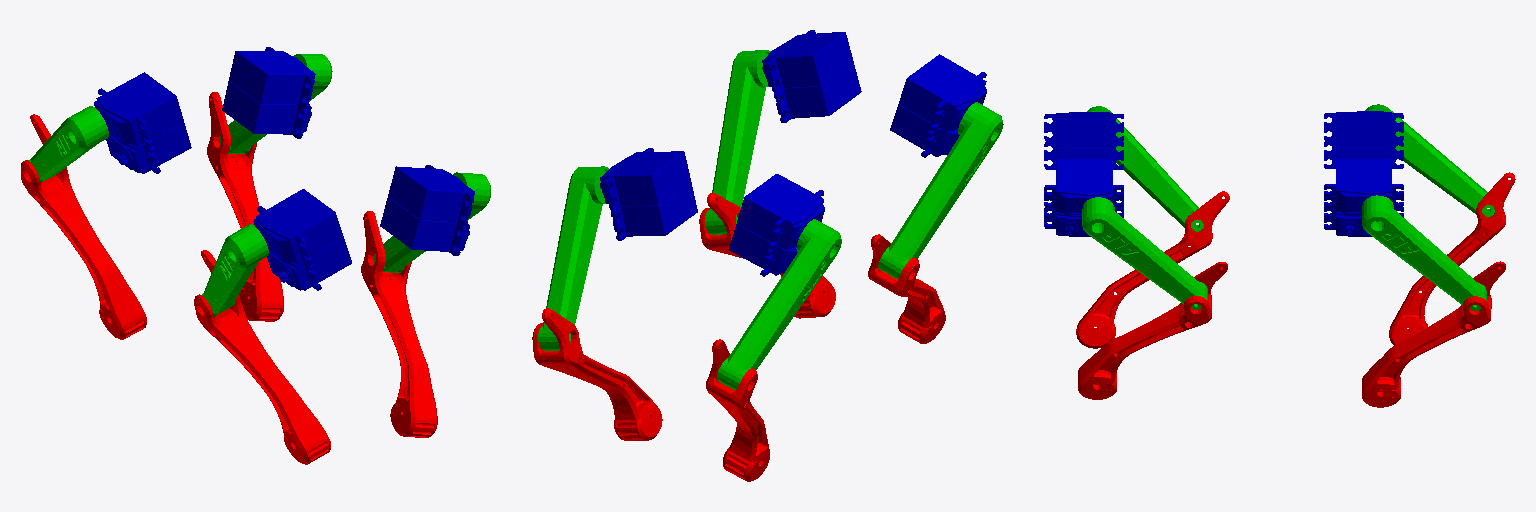
--- Facts derived from the render (not from the file) ---
3 views of the same robot in one strip: view 1: azimuth 30°, elevation 25°; view 2: azimuth 150°, elevation 25°; view 3: azimuth 270°, elevation 25° (orthographic).
Model dd with 17 links and 16 joints (12 revolute, 4 fixed), rooted at base_link, posed all joints at 0.
Links seen in each view (by area): view 1: FL_lower, RL_hip, FR_hip, RR_lower, RR_hip, FL_hip, FR_lower, RL_lower, FR_upper, RR_upper, FL_upper, RL_upper; view 2: RL_hip, FL_hip, FR_upper, RR_upper, FR_hip, RR_hip, RL_upper, FL_upper, RL_lower, RR_lower, FR_lower, FL_lower; view 3: RL_lower, FL_lower, RL_upper, FL_upper, FL_hip, RL_hip, FR_lower, RR_hip, FR_hip, RR_lower, RR_upper, FR_upper.
Link boxes in pixels (left/top/right/bottom): FL_lower: left=361, top=211, right=437, bottom=437; RL_hip: left=222, top=47, right=315, bottom=138; FR_hip: left=253, top=189, right=351, bottom=290; RR_lower: left=21, top=114, right=146, bottom=339; RR_hip: left=94, top=72, right=191, bottom=173; FL_hip: left=380, top=165, right=474, bottom=255; FR_lower: left=194, top=250, right=330, bottom=464; RL_lower: left=207, top=92, right=283, bottom=321; FR_upper: left=202, top=224, right=268, bottom=316; RR_upper: left=28, top=106, right=108, bottom=182; FL_upper: left=374, top=172, right=490, bottom=272; RL_upper: left=219, top=54, right=332, bottom=153; RL_hip: left=600, top=148, right=697, bottom=240; FL_hip: left=762, top=30, right=861, bottom=122; FR_upper: left=878, top=102, right=1003, bottom=279; RR_upper: left=716, top=219, right=841, bottom=390; FR_hip: left=890, top=54, right=986, bottom=157; RR_hip: left=729, top=174, right=824, bottom=276; RL_upper: left=538, top=166, right=608, bottom=350; FL_upper: left=705, top=50, right=770, bottom=234; RL_lower: left=532, top=308, right=662, bottom=440; RR_lower: left=706, top=339, right=769, bottom=481; FR_lower: left=868, top=234, right=945, bottom=343; FL_lower: left=699, top=193, right=835, bottom=318; RL_lower: left=1362, top=261, right=1505, bottom=407; FL_lower: left=1078, top=262, right=1227, bottom=399; RL_upper: left=1362, top=195, right=1486, bottom=310; FL_upper: left=1082, top=197, right=1207, bottom=309; FL_hip: left=1044, top=159, right=1123, bottom=236; RL_hip: left=1324, top=159, right=1403, bottom=236; FR_lower: left=1076, top=191, right=1229, bottom=348; RR_hip: left=1324, top=111, right=1403, bottom=168; FR_hip: left=1044, top=112, right=1123, bottom=169; RR_lower: left=1389, top=172, right=1515, bottom=345; RR_upper: left=1365, top=104, right=1494, bottom=216; FR_upper: left=1087, top=106, right=1203, bottom=231.
Size in the robot's own frame: 0.1852 by 0.3326 by 0.1856 metres.
Meshes: 13 distinct files referenced, 12 mesh visuals loaded (12 binary STL); not drawn: 1 (reference not matched to a file when rendering).

URDF robot description (dd):
<?xml version="1.0" encoding="utf-8"?>
<!-- This URDF was automatically created by SolidWorks to URDF Exporter! Originally created by Stephen Brawner ([email redacted]) 
     Commit Version: 1.6.0-1-g15f4949  Build Version: 1.6.7594.29634
     For more information, please see http://wiki.ros.org/sw_urdf_exporter -->
<robot
  name="dd">
  <link
    name="base_link">
    <inertial>
      <origin
        xyz="-0.00026982 0.0011604 -0.0054825"
        rpy="0 0 0" />
      <mass
        value="0.43373" />
      <inertia
        ixx="0.00050607"
        ixy="2.8379E-08"
        ixz="-7.5911E-08"
        iyy="0.00013888"
        iyz="-1.9807E-07"
        izz="0.00052158" />
    </inertial>
    <visual>
      <origin
        xyz="0 0 0"
        rpy="0 0 0" />
      <geometry>
        <mesh
          filename="package://dd/meshes/base_link.STL" />
      </geometry>
      <material
        name="">
        <color
          rgba="1 0.423529411765 0.0392156862745 1" />
      </material>
    </visual>
    <collision>
      <origin
        xyz="0 0 0"
        rpy="0 0 0" />
      <geometry>
        <mesh
          filename="package://dd/meshes/base_link.STL" />
      </geometry>
    </collision>
  </link>
  <link
    name="FR_hip">
    <inertial>
      <origin
        xyz="-0.01 -0.016533 0.01"
        rpy="0 0 0" />
      <mass
        value="0.038771" />
      <inertia
        ixx="5.5867E-06"
        ixy="7.7162E-15"
        ixz="3.4527E-13"
        iyy="5.9876E-06"
        iyz="-4.4962E-15"
        izz="2.1978E-06" />
    </inertial>
    <visual>
      <origin
        xyz="0 0 0"
        rpy="0 0 0" />
      <geometry>
        <mesh
          filename="package://dd/meshes/FR_hip.STL" />
      </geometry>
      <material
        name="">
        <color
          rgba="0 0 0.8 1" />
      </material>
    </visual>
    <collision>
      <origin
        xyz="0 0 0"
        rpy="0 0 0" />
      <geometry>
        <mesh
          filename="package://dd/meshes/FR_hip.STL" />
      </geometry>
    </collision>
  </link>
  <joint
    name="FR_hip_joint"
    type="revolute">
    <origin
      xyz="-0.068663 -0.08865 -0.0075892"
      rpy="-1.5708 -1.2604 3.1416" />
    <parent
      link="base_link" />
    <child
      link="FR_hip" />
    <axis
      xyz="0 0 1" />
    <limit
      lower="-0.80285"
      upper="0.80285"
      effort="20"
      velocity="52.4" />
    <dynamics
      damping="0"
      friction="0" />
  </joint>
  <link
    name="FR_upper">
    <inertial>
      <origin
        xyz="0.0076438 -0.04431 1.8027E-06"
        rpy="0 0 0" />
      <mass
        value="0.034183" />
      <inertia
        ixx="3.8769E-05"
        ixy="5.2555E-07"
        ixz="-4.8285E-10"
        iyy="1.7678E-06"
        iyz="-5.4044E-10"
        izz="3.8447E-05" />
    </inertial>
    <visual>
      <origin
        xyz="0 0 0"
        rpy="0 0 0" />
      <geometry>
        <mesh
          filename="package://dd/meshes/FR_upper.STL" />
      </geometry>
      <material
        name="">
        <color
          rgba="0 0.8 0 1" />
      </material>
    </visual>
    <collision>
      <origin
        xyz="0 0 0"
        rpy="0 0 0" />
      <geometry>
        <mesh
          filename="package://dd/meshes/FR_upper.STL" />
      </geometry>
    </collision>
  </link>
  <joint
    name="FR_upper_joint"
    type="revolute">
    <origin
      xyz="0 0.00615 0"
      rpy="2.3688 0 1.5708" />
    <parent
      link="FR_hip" />
    <child
      link="FR_upper" />
    <axis
      xyz="1 0 0" />
    <limit
      lower="-0.82"
      upper="0"
      effort="55"
      velocity="28.6" />
    <dynamics
      damping="0"
      friction="0" />
  </joint>
  <link
    name="FR_lower">
    <inertial>
      <origin
        xyz="-0.00047359 -0.042592 -0.042689"
        rpy="0 0 0" />
      <mass
        value="0.02613" />
      <inertia
        ixx="3.4619E-05"
        ixy="2.5066E-07"
        ixz="2.5642E-07"
        iyy="2.1712E-05"
        iyz="-1.6E-05"
        izz="1.3723E-05" />
    </inertial>
    <visual>
      <origin
        xyz="0 0 0"
        rpy="0 0 0" />
      <geometry>
        <mesh
          filename="package://dd/meshes/FR_lower.STL" />
      </geometry>
      <material
        name="">
        <color
          rgba="1 0 0 1" />
      </material>
    </visual>
    <collision>
      <origin
        xyz="0 0 0"
        rpy="0 0 0" />
      <geometry>
        <mesh
          filename="package://dd/meshes/FR_lower.STL" />
      </geometry>
    </collision>
  </link>  
  <joint
    name="FR_lower_joint"
    type="revolute">
    <origin
      xyz="0.008 -0.1 0"
      rpy="0.73678 0 0" />
    <parent
      link="FR_upper" />
    <child
      link="FR_lower" />
    <axis
      xyz="1 0 0" />
    <limit
      lower="0"
      upper="1.56"
      effort="55"
      velocity="28.6" />
    <dynamics
      damping="0"
      friction="0" />
  </joint>

  <link
    name="FR_toe">
    <inertial>
      <origin
        xyz="-0.00047359 -0.0739421 -0.0739421"
        rpy="0 0 0" />
      <mass
        value="0.0002" />
      <inertia
        ixx="3.4619E-05"
        ixy="2.5066E-07"
        ixz="2.5642E-07"
        iyy="2.1712E-05"
        iyz="-1.6E-05"
        izz="1.3723E-05" />
    </inertial>
    <visual>
      <origin
        xyz="0 0 0"
        rpy="0 0 0" />
      <geometry>
        <box size="0.001 0.001 0.001"/> 
      </geometry>
      <material
        name="">
        <color
          rgba="0 0 0 1" />
      </material>
    </visual>
    <collision>
      <origin
        xyz="0 0 0"
        rpy="0 0 0" />
      <geometry>
        <box size="0.001 0.001 0.001"/>
      </geometry>
    </collision>
  </link>  
  <joint
    name="FR_toe_joint"
    type="fixed">
    <origin
      xyz="-0.00047359 -0.0739421 -0.0739421"
      rpy="0.73678 0 0" />
    <parent
      link="FR_lower" />
    <child
      link="FR_toe" />
  </joint>
  <transmission name="FR_hip_tran">
    <type>transmission_interface/SimpleTransmission</type>
    <joint name="FR_hip_joint">
      <hardwareInterface>hardware_interface/EffortJointInterface</hardwareInterface>
    </joint>
    <actuator name="FR_hip_motor">
      <hardwareInterface>hardware_interface/EffortJointInterface</hardwareInterface>
      <mechanicalReduction>1</mechanicalReduction>
    </actuator>
  </transmission>
  <transmission name="FR_upper_tran">
    <type>transmission_interface/SimpleTransmission</type>
    <joint name="FR_upper_joint">
      <hardwareInterface>hardware_interface/EffortJointInterface</hardwareInterface>
    </joint>
    <actuator name="FR_upper_motor">
      <hardwareInterface>hardware_interface/EffortJointInterface</hardwareInterface>
      <mechanicalReduction>1</mechanicalReduction>
    </actuator>
  </transmission>
  <transmission name="FR_lower_tran">
    <type>transmission_interface/SimpleTransmission</type>
    <joint name="FR_lower_joint">
      <hardwareInterface>hardware_interface/EffortJointInterface</hardwareInterface>
    </joint>
    <actuator name="FR_lower_motor">
      <hardwareInterface>hardware_interface/EffortJointInterface</hardwareInterface>
      <mechanicalReduction>1</mechanicalReduction>
    </actuator>
  </transmission>


  <link
    name="FL_hip">
    <inertial>
      <origin
        xyz="0.01 -0.016533 0.01"
        rpy="0 0 0" />
      <mass
        value="0.038771" />
      <inertia
        ixx="5.5867E-06"
        ixy="-7.5247E-15"
        ixz="3.4446E-13"
        iyy="5.9876E-06"
        iyz="4.3935E-15"
        izz="2.1978E-06" />
    </inertial>
    <visual>
      <origin
        xyz="0 0 0"
        rpy="0 0 0" />
      <geometry>
        <mesh
          filename="package://dd/meshes/FL_hip.STL" />
      </geometry>
      <material
        name="">
        <color
          rgba="0 0 0.8 1" />
      </material>
    </visual>
    <collision>
      <origin
        xyz="0 0 0"
        rpy="0 0 0" />
      <geometry>
        <mesh
          filename="package://dd/meshes/FL_hip.STL" />
      </geometry>
    </collision>
  </link>
  <joint
    name="FL_hip_joint"
    type="revolute">
    <origin
      xyz="0.06883 -0.08865 -0.0070456"
      rpy="-1.5708 1.2833 -3.1416" />
    <parent
      link="base_link" />
    <child
      link="FL_hip" />
    <axis
      xyz="0 0 1" />
    <limit
      lower="-0.80285"
      upper="0.80285"
      effort="20"
      velocity="52.4" />
    <dynamics
      damping="0"
      friction="0" />
  </joint>
  <link
    name="FL_upper">
    <inertial>
      <origin
        xyz="0.0076438 -0.04431 1.8026E-06"
        rpy="0 0 0" />
      <mass
        value="0.034183" />
      <inertia
        ixx="3.8769E-05"
        ixy="5.2554E-07"
        ixz="-4.8282E-10"
        iyy="1.7678E-06"
        iyz="-5.4063E-10"
        izz="3.8447E-05" />
    </inertial>
    <visual>
      <origin
        xyz="0 0 0"
        rpy="0 0 0" />
      <geometry>
        <mesh
          filename="package://dd/meshes/FL_upper.STL" />
      </geometry>
      <material
        name="">
        <color
          rgba="0 0.8 0 1" />
      </material>
    </visual>
    <collision>
      <origin
        xyz="0 0 0"
        rpy="0 0 0" />
      <geometry>
        <mesh
          filename="package://dd/meshes/FL_upper.STL" />
      </geometry>
    </collision>
  </link>
  <joint
    name="FL_upper_joint"
    type="revolute">
    <origin
      xyz="0 0.00615 0"
      rpy="0.76303 0 1.5708" />
    <parent
      link="FL_hip" />
    <child
      link="FL_upper" />
    <axis
      xyz="1 0 0" />
    <limit
      lower="0"
      upper="0.85"
      effort="55"
      velocity="28.6" />
    <dynamics
      damping="0"
      friction="0" />
  </joint>
  <link
    name="FL_lower">
    <inertial>
      <origin
        xyz="-0.00047369 -0.042592 0.042689"
        rpy="0 0 0" />
      <mass
        value="0.02613" />
      <inertia
        ixx="3.4619E-05"
        ixy="2.507E-07"
        ixz="-2.5641E-07"
        iyy="2.1712E-05"
        iyz="1.6E-05"
        izz="1.3723E-05" />
    </inertial>
    <visual>
      <origin
        xyz="0 0 0"
        rpy="0 0 0" />
      <geometry>
        <mesh
          filename="package://dd/meshes/FL_lower.STL" />
      </geometry>
      <material
        name="">
        <color
          rgba="1 0 0 1" />
      </material>
    </visual>
    <collision>
      <origin
        xyz="0 0 0"
        rpy="0 0 0" />
      <geometry>
        <mesh
          filename="package://dd/meshes/FL_lower.STL" />
      </geometry>
    </collision>
  </link>
  <joint
    name="FL_lower_joint"
    type="revolute">
    <origin
      xyz="0.00825 -0.1 0"
      rpy="-0.70402 0 0" />
    <parent
      link="FL_upper" />
    <child
      link="FL_lower" />
    <axis
      xyz="1 0 0" />
    <limit
      lower="0"
      upper="-1.42"
      effort="55"
      velocity="28.6" />
    <dynamics
      damping="0"
      friction="0" />
  </joint>

  <link
    name="FL_toe">
    <inertial>
      <origin
        xyz="-0.00047359 -0.0739421 0.0739421"
        rpy="0 0 0" />
      <mass
        value="0.0002" />
      <inertia
        ixx="3.4619E-05"
        ixy="2.5066E-07"
        ixz="2.5642E-07"
        iyy="2.1712E-05"
        iyz="-1.6E-05"
        izz="1.3723E-05" />
    </inertial>
    <visual>
      <origin
        xyz="0 0 0"
        rpy="0 0 0" />
      <geometry>
        <box size="0.001 0.001 0.001"/> 
      </geometry>
      <material
        name="">
        <color
          rgba="0 0 0 1" />
      </material>
    </visual>
    <collision>
      <origin
        xyz="0 0 0"
        rpy="0 0 0" />
      <geometry>
        <box size="0.001 0.001 0.001"/>
      </geometry>
    </collision>
  </link>  
  <joint
    name="FL_toe_joint"
    type="fixed">
    <origin
      xyz="-0.00047359 -0.0739421 0.0739421"
      rpy="0.73678 0 0" />
    <parent
      link="FL_lower" />
    <child
      link="FL_toe" />
  </joint>
  <transmission name="FL_hip_tran">
    <type>transmission_interface/SimpleTransmission</type>
    <joint name="FL_hip_joint">
      <hardwareInterface>hardware_interface/EffortJointInterface</hardwareInterface>
    </joint>
    <actuator name="FL_hip_motor">
      <hardwareInterface>hardware_interface/EffortJointInterface</hardwareInterface>
      <mechanicalReduction>1</mechanicalReduction>
    </actuator>
  </transmission>
  <transmission name="FL_upper_tran">
    <type>transmission_interface/SimpleTransmission</type>
    <joint name="FL_upper_joint">
      <hardwareInterface>hardware_interface/EffortJointInterface</hardwareInterface>
    </joint>
    <actuator name="FL_upper_motor">
      <hardwareInterface>hardware_interface/EffortJointInterface</hardwareInterface>
      <mechanicalReduction>1</mechanicalReduction>
    </actuator>
  </transmission>
  <transmission name="FL_lower_tran">
    <type>transmission_interface/SimpleTransmission</type>
    <joint name="FL_lower_joint">
      <hardwareInterface>hardware_interface/EffortJointInterface</hardwareInterface>
    </joint>
    <actuator name="FL_lower_motor">
      <hardwareInterface>hardware_interface/EffortJointInterface</hardwareInterface>
      <mechanicalReduction>1</mechanicalReduction>
    </actuator>
  </transmission>

  <link
    name="RR_hip">
    <inertial>
      <origin
        xyz="-0.01 -0.016533 0.01"
        rpy="0 0 0" />
      <mass
        value="0.038771" />
      <inertia
        ixx="5.5867E-06"
        ixy="7.4367E-15"
        ixz="3.4416E-13"
        iyy="5.9876E-06"
        iyz="-4.3455E-15"
        izz="2.1978E-06" />
    </inertial>
    <visual>
      <origin
        xyz="0 0 0"
        rpy="0 0 0" />
      <geometry>
        <mesh
          filename="package://dd/meshes/RR_hip.STL" />
      </geometry>
      <material
        name="">
        <color
          rgba="0 0 0.8 1" />
      </material>
    </visual>
    <collision>
      <origin
        xyz="0 0 0"
        rpy="0 0 0" />
      <geometry>
        <mesh
          filename="package://dd/meshes/RR_hip.STL" />
      </geometry>
    </collision>
  </link>
  <joint
    name="RR_hip_joint"
    type="revolute">
    <origin
      xyz="-0.06889 0.10865 -0.0068413"
      rpy="-1.5708 -1.2919 3.1416" />
    <parent
      link="base_link" />
    <child
      link="RR_hip" />
    <axis
      xyz="0 0 1" />
    <limit
      lower="-0.80285"
      upper="0.80285"
      effort="20"
      velocity="52.4" />
    <dynamics
      damping="0"
      friction="0" />
  </joint>
  <link
    name="RR_upper">
    <inertial>
      <origin
        xyz="0.0076438 -0.04431 1.8026E-06"
        rpy="0 0 0" />
      <mass
        value="0.034183" />
      <inertia
        ixx="3.8769E-05"
        ixy="5.2555E-07"
        ixz="-4.8281E-10"
        iyy="1.7678E-06"
        iyz="-5.4052E-10"
        izz="3.8447E-05" />
    </inertial>
    <visual>
      <origin
        xyz="0 0 0"
        rpy="0 0 0" />
      <geometry>
        <mesh
          filename="package://dd/meshes/RR_upper.STL" />
      </geometry>
      <material
        name="">
        <color
          rgba="0 0.8 0 1" />
      </material>
    </visual>
    <collision>
      <origin
        xyz="0 0 0"
        rpy="0 0 0" />
      <geometry>
        <mesh
          filename="package://dd/meshes/RR_upper.STL" />
      </geometry>
    </collision>
  </link>
  <joint
    name="RR_upper_joint"
    type="revolute">
    <origin
      xyz="0 0.00615 0"
      rpy="2.2445 0 1.5708" />
    <parent
      link="RR_hip" />
    <child
      link="RR_upper" />
    <axis
      xyz="1 0 0" />
    <limit
      lower="-0.82"
      upper="0"
      effort="55"
      velocity="28.6" />
    <dynamics
      damping="0"
      friction="0" />
  </joint>
  <link
    name="RR_lower">
    <inertial>
      <origin
        xyz="-0.00047359 -0.042592 -0.042689"
        rpy="0 0 0" />
      <mass
        value="0.02613" />
      <inertia
        ixx="3.4619E-05"
        ixy="2.5066E-07"
        ixz="2.5642E-07"
        iyy="2.1712E-05"
        iyz="-1.6E-05"
        izz="1.3723E-05" />
    </inertial>
    <visual>
      <origin
        xyz="0 0 0"
        rpy="0 0 0" />
      <geometry>
        <mesh
          filename="package://dd/meshes/RR_lower.STL" />
      </geometry>
      <material
        name="">
        <color
          rgba="1 0 0 1" />
      </material>
    </visual>
    <collision>
      <origin
        xyz="0 0 0"
        rpy="0 0 0" />
      <geometry>
        <mesh
          filename="package://dd/meshes/RR_lower.STL" />
      </geometry>
    </collision>
  </link>
  <joint
    name="RR_lower_joint"
    type="revolute">
    <origin
      xyz="0.008 -0.1 0"
      rpy="0.67743 0 0" />
    <parent
      link="RR_upper" />
    <child
      link="RR_lower" />
    <axis
      xyz="1 0 0" />
    <limit
      lower="0"
      upper="1.56"
      effort="55"
      velocity="28.6" />
    <dynamics
      damping="0"
      friction="0" />
  </joint>

  <link
    name="RR_toe">
    <inertial>
      <origin
        xyz="-0.00047359 -0.0744159 -0.0744159"
        rpy="0 0 0" />
      <mass
        value="0.0002" />
      <inertia
        ixx="3.4619E-05"
        ixy="2.5066E-07"
        ixz="2.5642E-07"
        iyy="2.1712E-05"
        iyz="-1.6E-05"
        izz="1.3723E-05" />
    </inertial>
    <visual>
      <origin
        xyz="0 0 0"
        rpy="0 0 0" />
      <geometry>
        <box size="0.001 0.001 0.001"/> 
      </geometry>
      <material
        name="">
        <color
          rgba="0 0 0 1" />
      </material>
    </visual>
    <collision>
      <origin
        xyz="0 0 0"
        rpy="0 0 0" />
      <geometry>
        <box size="0.001 0.001 0.001"/>
      </geometry>
    </collision>
  </link>  
  <joint
    name="RR_toe_joint"
    type="fixed">
    <origin
      xyz="-0.00047359 -0.0739421 -0.0739421"
      rpy="0.67743 0 0" />
    <parent
      link="RR_lower" />
    <child
      link="RR_toe" />
  </joint>
  <transmission name="RR_hip_tran">
    <type>transmission_interface/SimpleTransmission</type>
    <joint name="RR_hip_joint">
      <hardwareInterface>hardware_interface/EffortJointInterface</hardwareInterface>
    </joint>
    <actuator name="RR_hip_motor">
      <hardwareInterface>hardware_interface/EffortJointInterface</hardwareInterface>
      <mechanicalReduction>1</mechanicalReduction>
    </actuator>
  </transmission>
  <transmission name="RR_upper_tran">
    <type>transmission_interface/SimpleTransmission</type>
    <joint name="RR_upper_joint">
      <hardwareInterface>hardware_interface/EffortJointInterface</hardwareInterface>
    </joint>
    <actuator name="RR_upper_motor">
      <hardwareInterface>hardware_interface/EffortJointInterface</hardwareInterface>
      <mechanicalReduction>1</mechanicalReduction>
    </actuator>
  </transmission>
  <transmission name="RR_lower_tran">
    <type>transmission_interface/SimpleTransmission</type>
    <joint name="RR_lower_joint">
      <hardwareInterface>hardware_interface/EffortJointInterface</hardwareInterface>
    </joint>
    <actuator name="RR_lower_motor">
      <hardwareInterface>hardware_interface/EffortJointInterface</hardwareInterface>
      <mechanicalReduction>1</mechanicalReduction>
    </actuator>
  </transmission>

  <link
    name="RL_hip">
    <inertial>
      <origin
        xyz="0.01 -0.016533 0.01"
        rpy="0 0 0" />
      <mass
        value="0.038771" />
      <inertia
        ixx="5.5867E-06"
        ixy="6.9713E-15"
        ixz="3.429E-13"
        iyy="5.9876E-06"
        iyz="-4.0869E-15"
        izz="2.1978E-06" />
    </inertial>
    <visual>
      <origin
        xyz="0 0 0"
        rpy="0 0 0" />
      <geometry>
        <mesh
          filename="package://dd/meshes/RL_hip.STL" />
      </geometry>
      <material
        name="">
        <color
          rgba="0 0 0.8 1" />
      </material>
    </visual>
    <collision>
      <origin
        xyz="0 0 0"
        rpy="0 0 0" />
      <geometry>
        <mesh
          filename="package://dd/meshes/RL_hip.STL" />
      </geometry>
    </collision>
  </link>
  <joint
    name="RL_hip_joint"
    type="revolute">
    <origin
      xyz="0.064307 0.08865 -0.025392"
      rpy="-1.5708 -1.3278 0" />
    <parent
      link="base_link" />
    <child
      link="RL_hip" />
    <axis
      xyz="0 0 1" />
    <limit
      lower="-0.80285"
      upper="0.80285"
      effort="20"
      velocity="52.4" />
    <dynamics
      damping="0"
      friction="0" />
  </joint>
  <link
    name="RL_upper">
    <inertial>
      <origin
        xyz="0.0076438 -0.04431 1.8027E-06"
        rpy="0 0 0" />
      <mass
        value="0.034183" />
      <inertia
        ixx="3.8769E-05"
        ixy="5.2555E-07"
        ixz="-4.8287E-10"
        iyy="1.7678E-06"
        iyz="-5.4054E-10"
        izz="3.8447E-05" />
    </inertial>
    <visual>
      <origin
        xyz="0 0 0"
        rpy="0 0 0" />
      <geometry>
        <mesh
          filename="package://dd/meshes/RL_upper.STL" />
      </geometry>
      <material
        name="">
        <color
          rgba="0 0.8 0 1" />
      </material>
    </visual>
    <collision>
      <origin
        xyz="0 0 0"
        rpy="0 0 0" />
      <geometry>
        <mesh
          filename="package://dd/meshes/RL_upper.STL" />
      </geometry>
    </collision>
  </link>
  <joint
    name="RL_upper_joint"
    type="revolute">
    <origin
      xyz="0.02 0.00615 0.02"
      rpy="-2.3816 0 1.5708" />
    <parent
      link="RL_hip" />
    <child
      link="RL_upper" />
    <axis
      xyz="1 0 0" />
    <limit
      lower="0"
      upper="0.85"
      effort="55"
      velocity="28.6" />
    <dynamics
      damping="0"
      friction="0" />
  </joint>
  <link
    name="RL_lower">
    <inertial>
      <origin
        xyz="-0.00047369 -0.042592 0.042689"
        rpy="0 0 0" />
      <mass
        value="0.02613" />
      <inertia
        ixx="3.4619E-05"
        ixy="2.507E-07"
        ixz="-2.5641E-07"
        iyy="2.1712E-05"
        iyz="1.6E-05"
        izz="1.3723E-05" />
    </inertial>
    <visual>
      <origin
        xyz="0 0 0"
        rpy="0 0 0" />
      <geometry>
        <mesh
          filename="package://dd/meshes/RL_lower.STL" />
      </geometry>
      <material
        name="">
        <color
          rgba="1 0 0 1" />
      </material>
    </visual>
    <collision>
      <origin
        xyz="0 0 0"
        rpy="0 0 0" />
      <geometry>
        <mesh
          filename="package://dd/meshes/RL_lower.STL" />
      </geometry>
    </collision>
  </link>
  <joint
    name="RL_lower_joint"
    type="revolute">
    <origin
      xyz="0.00825 -0.1 0"
      rpy="-0.6587 0 0" />
    <parent
      link="RL_upper" />
    <child
      link="RL_lower" />
    <axis
      xyz="1 0 0" />
    <limit
      lower="0"
      upper="-1.42"
      effort="55"
      velocity="28.6" />
    <dynamics
      damping="0"
      friction="0" />
  </joint>

  <link
    name="RL_toe">
    <inertial>
      <origin
        xyz="-0.00047359 -0.0744159 0.0744159"
        rpy="0 0 0" />
      <mass
        value="0.0002" />
      <inertia
        ixx="3.4619E-05"
        ixy="2.5066E-07"
        ixz="2.5642E-07"
        iyy="2.1712E-05"
        iyz="-1.6E-05"
        izz="1.3723E-05" />
    </inertial>
    <visual>
      <origin
        xyz="0 0 0"
        rpy="0 0 0" />
      <geometry>
        <box size="0.001 0.001 0.001"/> 
      </geometry>
      <material
        name="">
        <color
          rgba="0 0 0 1" />
      </material>
    </visual>
    <collision>
      <origin
        xyz="0 0 0"
        rpy="0 0 0" />
      <geometry>
        <box size="0.001 0.001 0.001"/>
      </geometry>
    </collision>
  </link>  
  <joint
    name="RL_toe_joint"
    type="fixed">
    <origin
      xyz="-0.00047359 -0.0739421 0.0739421"
      rpy="0.67743 0 0" />
    <parent
      link="RL_lower" />
    <child
      link="RL_toe" />
  </joint>
  <transmission name="RL_hip_tran">
    <type>transmission_interface/SimpleTransmission</type>
    <joint name="RL_hip_joint">
      <hardwareInterface>hardware_interface/EffortJointInterface</hardwareInterface>
    </joint>
    <actuator name="RL_hip_motor">
      <hardwareInterface>hardware_interface/EffortJointInterface</hardwareInterface>
      <mechanicalReduction>1</mechanicalReduction>
    </actuator>
  </transmission>
  <transmission name="RL_upper_tran">
    <type>transmission_interface/SimpleTransmission</type>
    <joint name="RL_upper_joint">
      <hardwareInterface>hardware_interface/EffortJointInterface</hardwareInterface>
    </joint>
    <actuator name="RL_upper_motor">
      <hardwareInterface>hardware_interface/EffortJointInterface</hardwareInterface>
      <mechanicalReduction>1</mechanicalReduction>
    </actuator>
  </transmission>
  <transmission name="RL_lower_tran">
    <type>transmission_interface/SimpleTransmission</type>
    <joint name="RL_lower_joint">
      <hardwareInterface>hardware_interface/EffortJointInterface</hardwareInterface>
    </joint>
    <actuator name="RL_lower_motor">
      <hardwareInterface>hardware_interface/EffortJointInterface</hardwareInterface>
      <mechanicalReduction>1</mechanicalReduction>
    </actuator>
  </transmission>
</robot>
